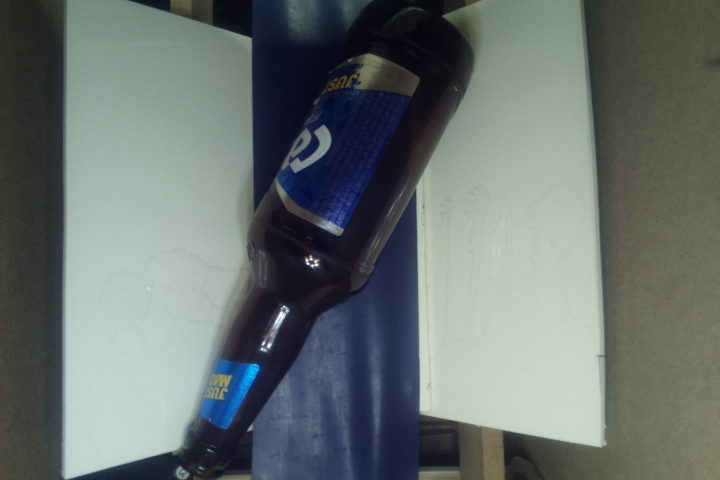makju: (172, 1, 478, 478)
